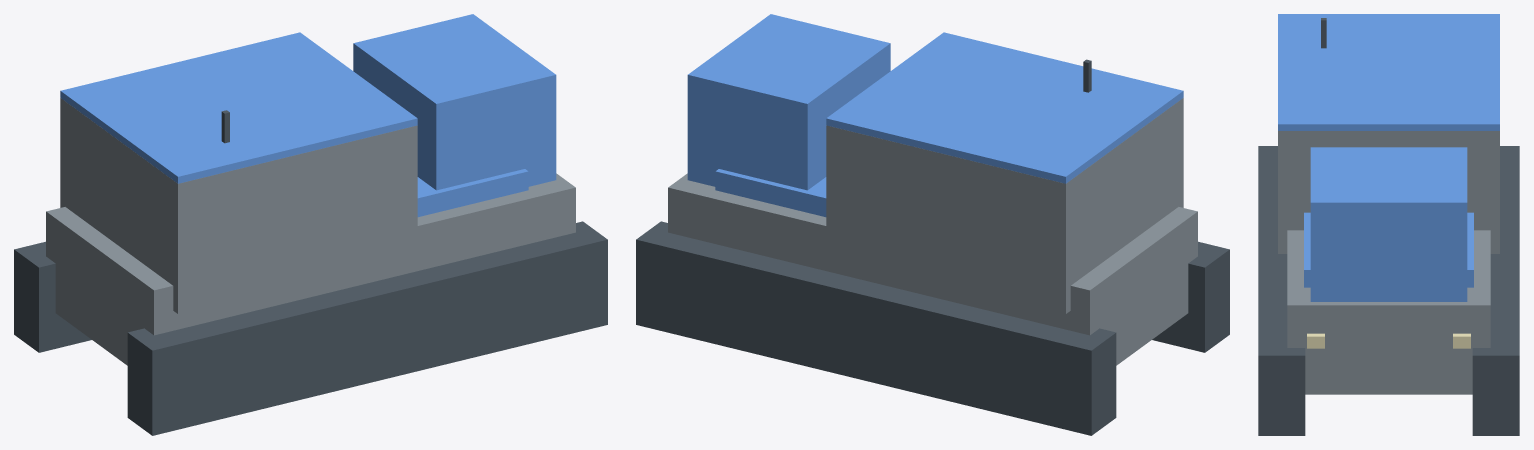
File: grondstofwagen.glb
The picture shows the model from 3 angles, left to right: view 1: azimuth 30°, elevation 25°; view 2: azimuth 150°, elevation 25°; view 3: azimuth 270°, elevation 25°; orthographic projection. The views are drawn at different scales.
Parts seen in each view (by area): view 1: hull_steel_LOD0, hull_team_LOD0, hull_dark_LOD0; view 2: hull_steel_LOD0, hull_team_LOD0, hull_dark_LOD0; view 3: hull_team_LOD0, hull_steel_LOD0, hull_dark_LOD0, hull_lamp_LOD0.
Boxes of the visible parts, x1=… form: hull_steel_LOD0: x1=46, y1=98, x2=575, y2=365; hull_team_LOD0: x1=60, y1=14, x2=556, y2=217; hull_dark_LOD0: x1=14, y1=110, x2=607, y2=435; hull_steel_LOD0: x1=668, y1=98, x2=1197, y2=365; hull_team_LOD0: x1=687, y1=14, x2=1183, y2=217; hull_dark_LOD0: x1=636, y1=59, x2=1229, y2=435; hull_team_LOD0: x1=1278, y1=14, x2=1499, y2=301; hull_steel_LOD0: x1=1278, y1=131, x2=1499, y2=394; hull_dark_LOD0: x1=1258, y1=18, x2=1519, y2=435; hull_lamp_LOD0: x1=1307, y1=333, x2=1470, y2=348.
Size of what is drawn, in the model's own units: 6.84 by 3.91 by 3.6.
